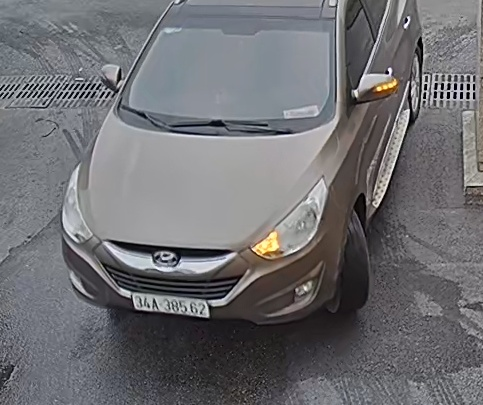vehicle plate: (125, 290, 214, 322)
